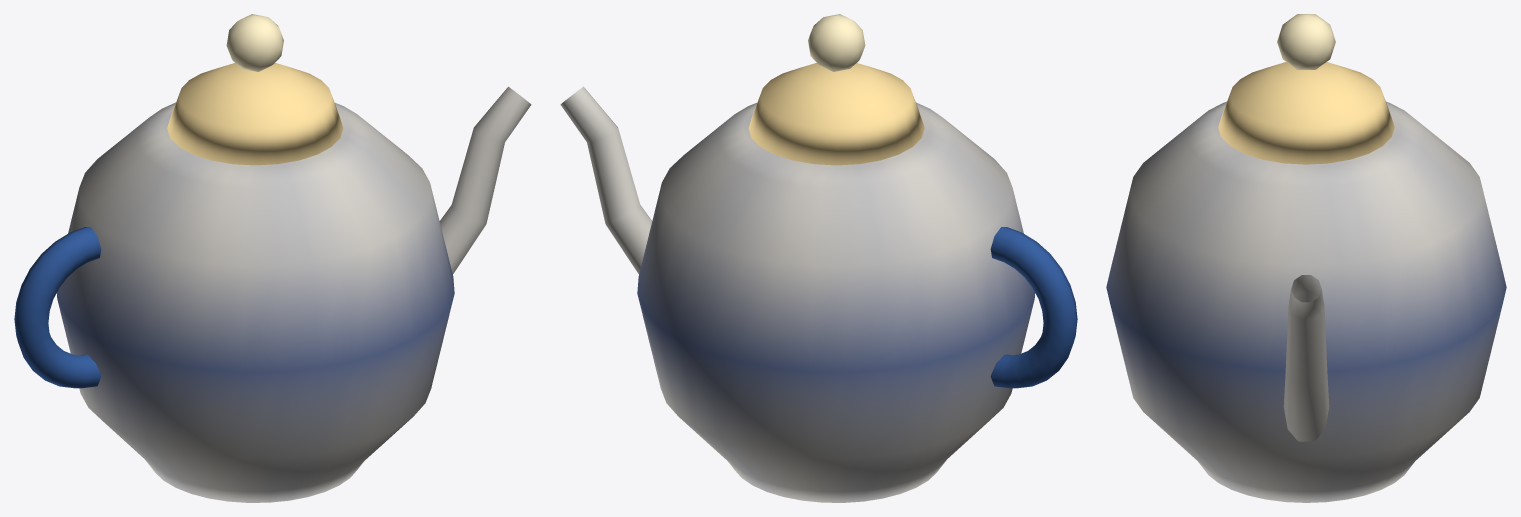
File: furn_teapot_lamp.glb
The picture shows the model from 3 angles, left to right: view 1: azimuth 30°, elevation 25°; view 2: azimuth 150°, elevation 25°; view 3: azimuth 270°, elevation 25°; orthographic projection.
Parts seen in each view (by area): view 1: furn_teapot_lamp_gloss, furn_teapot_lamp_glow; view 2: furn_teapot_lamp_gloss, furn_teapot_lamp_glow; view 3: furn_teapot_lamp_gloss, furn_teapot_lamp_glow.
Boxes of the visible parts, bbox=[...] form: furn_teapot_lamp_gloss: bbox=[14, 86, 531, 502]; furn_teapot_lamp_glow: bbox=[167, 14, 343, 165]; furn_teapot_lamp_gloss: bbox=[560, 86, 1077, 502]; furn_teapot_lamp_glow: bbox=[748, 14, 924, 165]; furn_teapot_lamp_gloss: bbox=[1106, 101, 1506, 502]; furn_teapot_lamp_glow: bbox=[1218, 14, 1394, 164].
Bounding box in the file's own units: 1.01 × 0.83 × 0.68.
